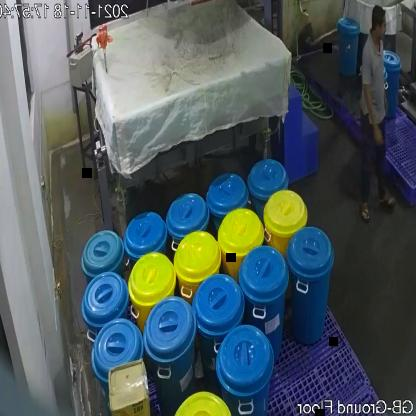no_shoes: (360, 201, 372, 223)
